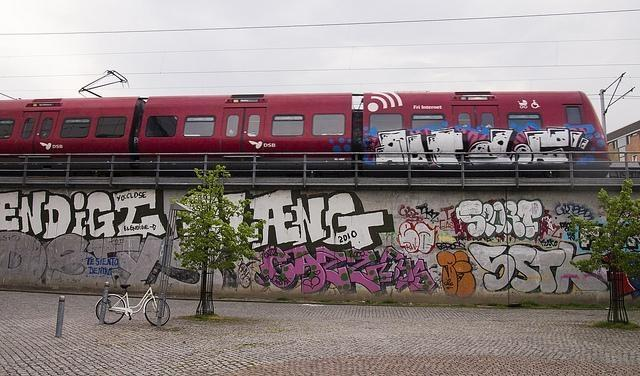bicycle: (94, 273, 170, 326)
